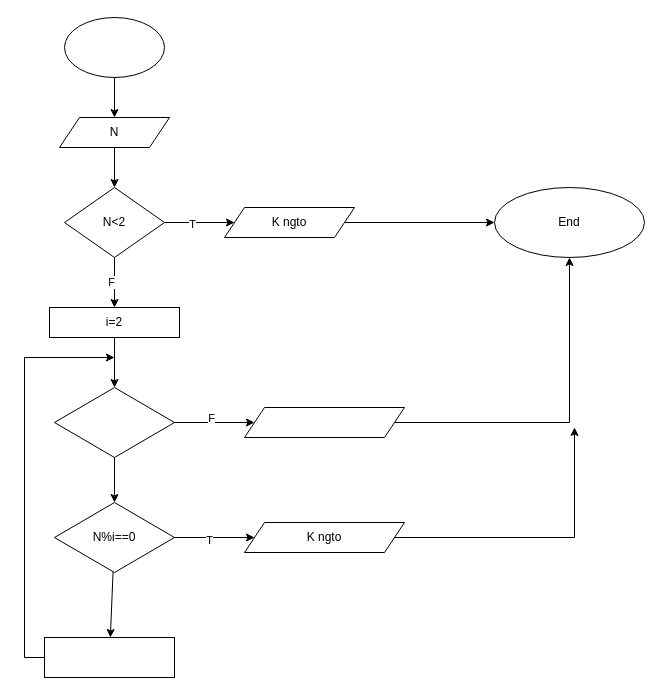
Some shapes in this 662 by 695 pixel diagram are drawn without their labels. Here are the shapes that lost their labels. From the top down, the centre of each, then its label:
pixel 114 47: Begin
pixel 114 422: i<=0,5N
pixel 324 422: Co ngto
pixel 109 657: i++
